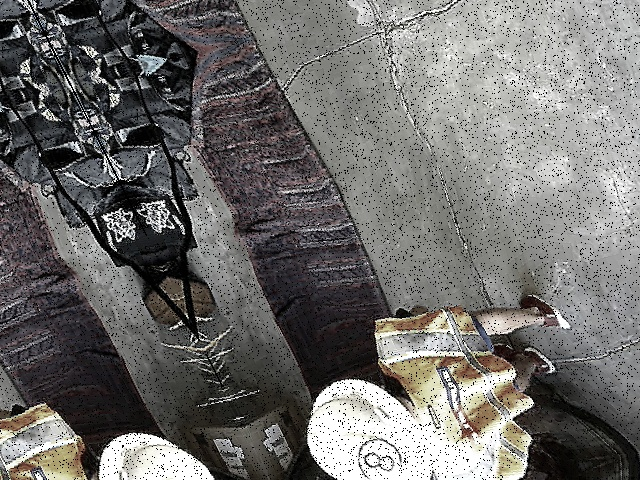eight: (343, 433, 416, 479)
